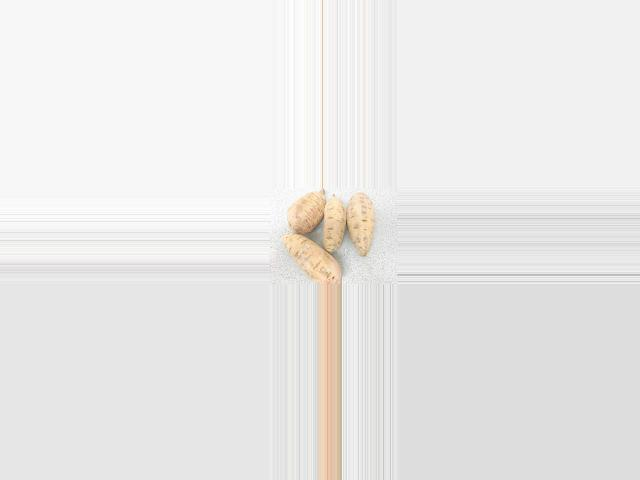sweet_potato: (276, 233, 348, 284)
